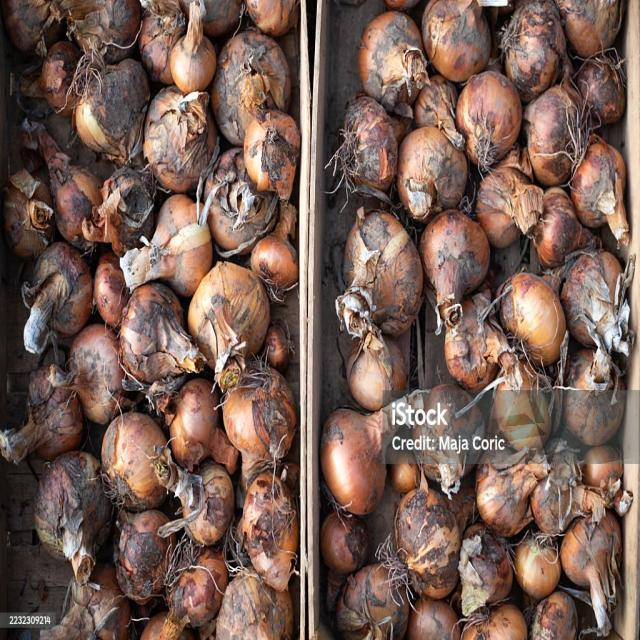rotten: (337, 207, 424, 337), (220, 362, 298, 491), (210, 26, 290, 148), (32, 452, 111, 574), (116, 283, 206, 390), (188, 260, 271, 376), (121, 194, 213, 298), (392, 474, 460, 596), (74, 57, 150, 166), (416, 209, 488, 324), (142, 84, 217, 193), (21, 242, 93, 354), (559, 250, 632, 358), (100, 410, 174, 515), (414, 382, 484, 489), (320, 407, 388, 516), (240, 470, 300, 592), (357, 10, 427, 114), (499, 0, 566, 104), (495, 272, 566, 370), (395, 126, 466, 224), (454, 70, 521, 171), (87, 165, 159, 258), (442, 293, 510, 391), (338, 95, 402, 196), (520, 82, 582, 186), (570, 138, 630, 242), (165, 460, 234, 549), (476, 161, 544, 251), (64, 325, 126, 423), (336, 560, 412, 639), (163, 546, 230, 634), (115, 508, 177, 603), (241, 107, 300, 204), (164, 379, 225, 472), (474, 454, 544, 535), (421, 0, 489, 83), (213, 569, 294, 638), (344, 323, 408, 410), (490, 381, 556, 462), (560, 361, 624, 444), (558, 511, 620, 596), (456, 526, 514, 611), (2, 168, 54, 260), (49, 163, 103, 251), (530, 187, 586, 268), (137, 0, 190, 85), (556, 0, 624, 61), (571, 56, 626, 128), (78, 564, 131, 638), (412, 74, 464, 148), (528, 460, 578, 536), (29, 394, 84, 461), (511, 531, 562, 601), (382, 387, 432, 458), (320, 508, 370, 576), (38, 40, 82, 115), (1, 0, 59, 56), (249, 234, 299, 296), (150, 192, 202, 249), (92, 251, 130, 327), (170, 34, 216, 95), (342, 207, 374, 292), (576, 443, 623, 498), (526, 591, 578, 639), (97, 0, 142, 52), (243, 0, 300, 38), (189, 0, 243, 38), (595, 249, 624, 304), (599, 138, 627, 192), (390, 456, 421, 494)
